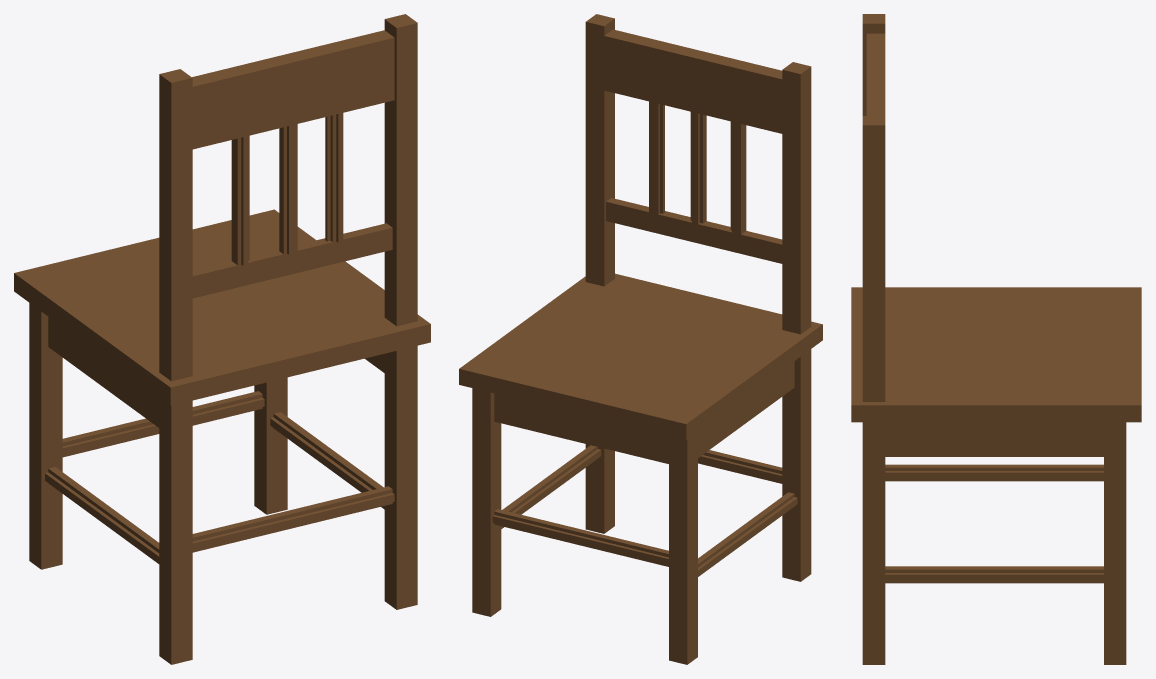
File: chair_wood.glb
3 views of the same model, side by side, from view 1: azimuth 30°, elevation 25°; view 2: azimuth 150°, elevation 25°; view 3: azimuth 270°, elevation 25° (orthographic). The views are drawn at different scales.
Parts seen in each view (by area): view 1: chair_wood:compound; view 2: chair_wood:compound; view 3: chair_wood:compound.
Boxes of the visible parts, x1,y1,x2,y2 form: chair_wood:compound: [14, 14, 430, 664]; chair_wood:compound: [459, 14, 822, 664]; chair_wood:compound: [851, 14, 1141, 664].
Bounding box in the file's own units: 0.444 × 0.948 × 0.462.
